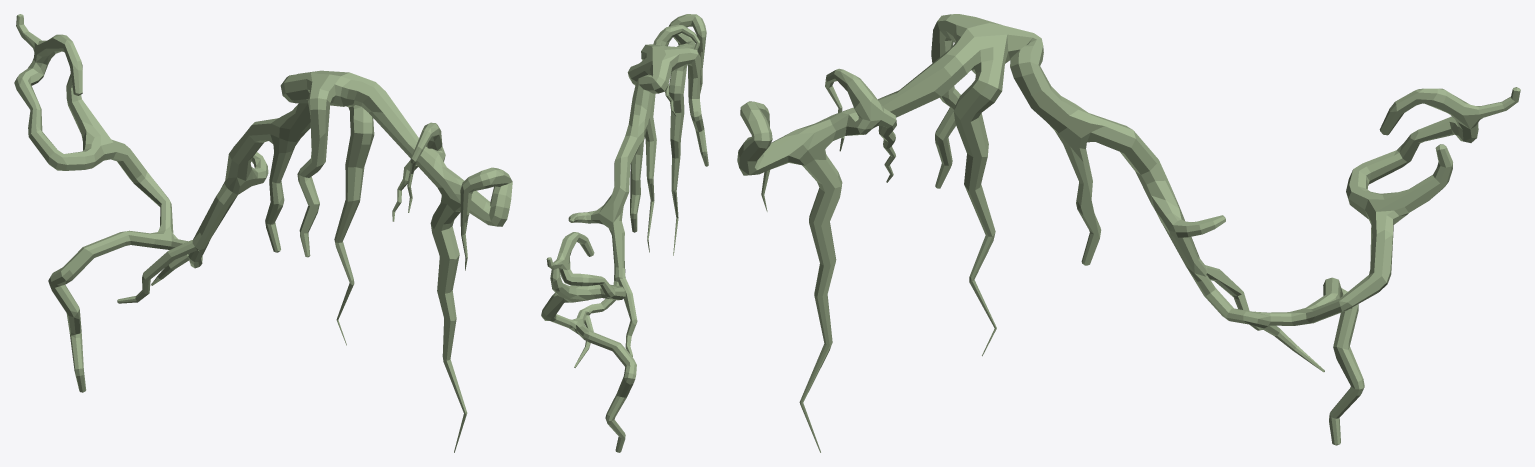
The model's file is EA_Swamp_Liana_01a.glb.
3 renders of one model, left to right at view 1: azimuth 30°, elevation 25°; view 2: azimuth 150°, elevation 25°; view 3: azimuth 270°, elevation 25°, orthographic. The views are drawn at different scales.
Visible parts, largest first — view 1: EA_Swamp_Liana_01a; view 2: EA_Swamp_Liana_01a; view 3: EA_Swamp_Liana_01a.
Boxes of the visible parts, box(x1,y1,x2,y2) form: EA_Swamp_Liana_01a: box(14, 14, 512, 452); EA_Swamp_Liana_01a: box(541, 14, 708, 452); EA_Swamp_Liana_01a: box(737, 14, 1520, 452).
Size of the model in its own units: 2.15 by 4.04 by 6.08.
1 material, 1 textured.
